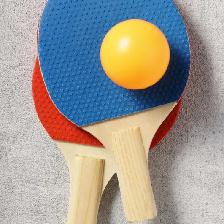YellowBall: (99, 18, 169, 90)
